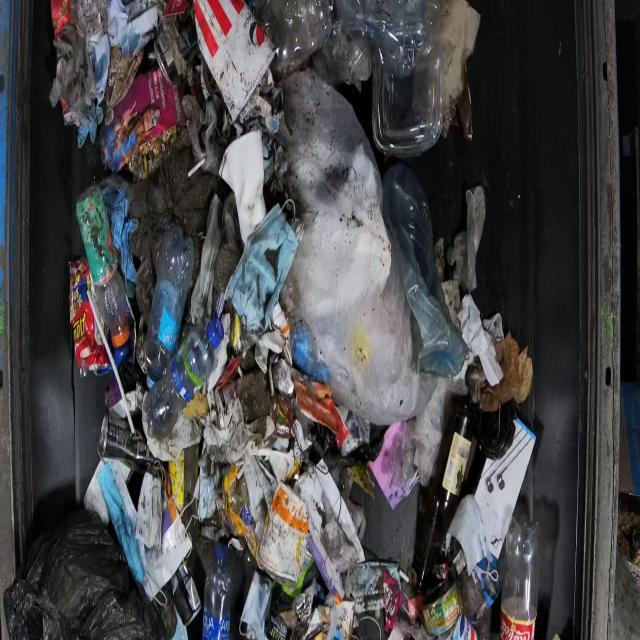other-trash: (41, 0, 541, 638)
